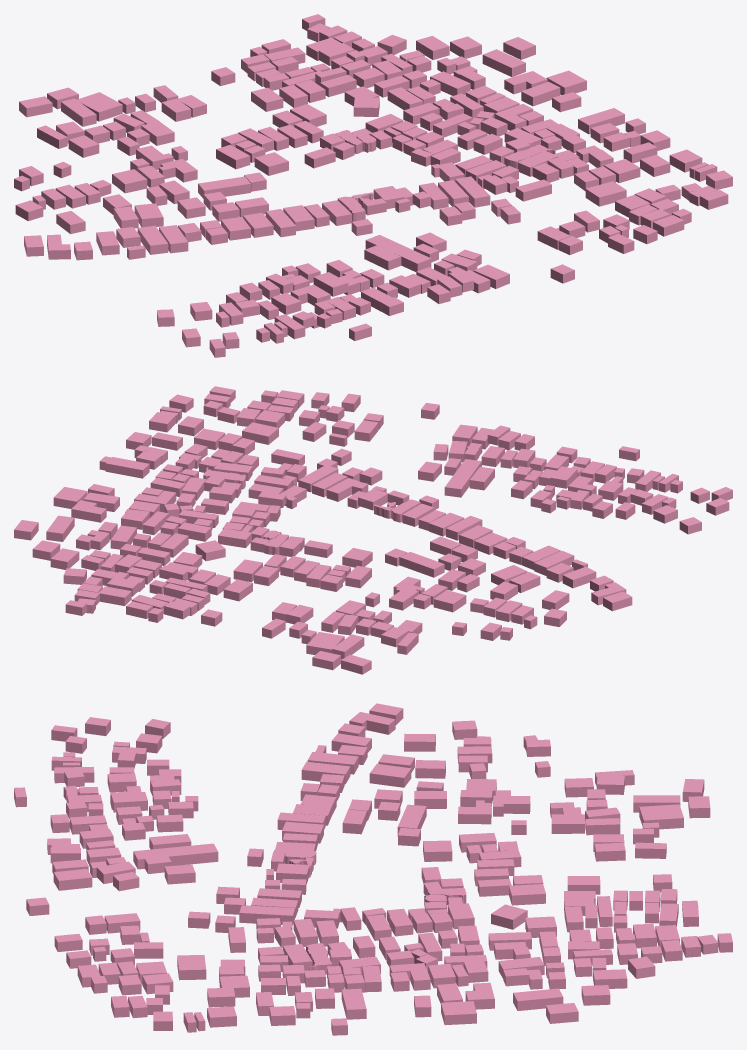
The picture shows the model from 3 angles, top to bottom: view 1: azimuth 30°, elevation 25°; view 2: azimuth 150°, elevation 25°; view 3: azimuth 270°, elevation 25°; orthographic projection. The views are drawn at different scales.
Visible parts, largest first — view 1: BuildingFootprintMapflow; view 2: BuildingFootprintMapflow; view 3: BuildingFootprintMapflow.
Boxes of the visible parts, <box> form: BuildingFootprintMapflow: <box>14,14,732,357</box>; BuildingFootprintMapflow: <box>14,386,732,674</box>; BuildingFootprintMapflow: <box>14,703,732,1035</box>.
Bounding box in the file's own units: 388 × 13.08 × 371.
